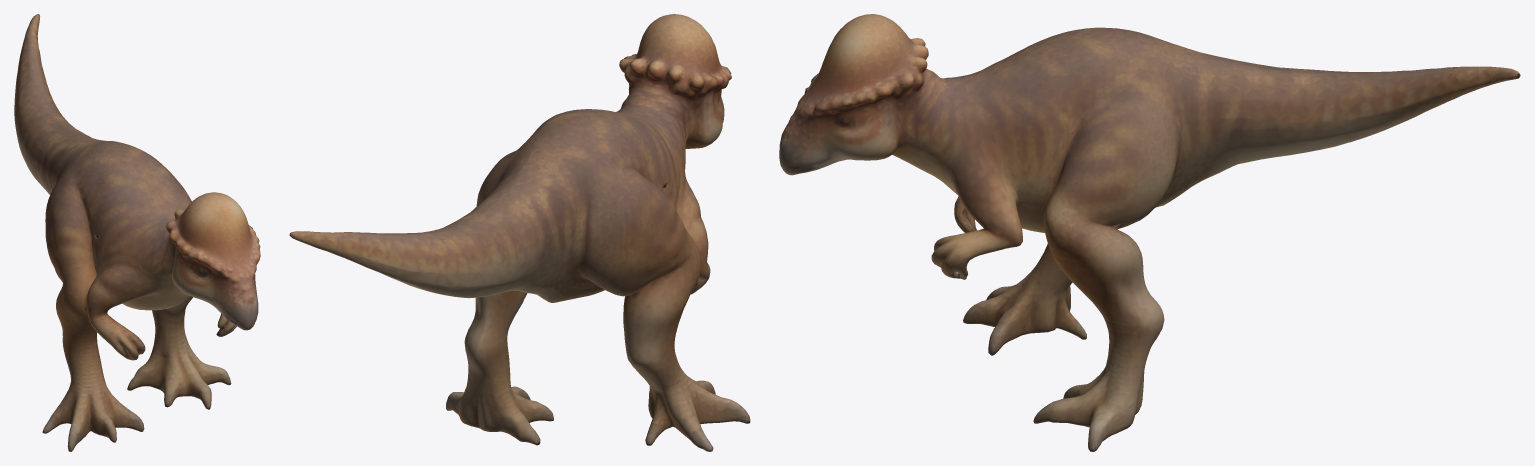
The picture shows the model from 3 angles, left to right: view 1: azimuth 30°, elevation 25°; view 2: azimuth 150°, elevation 25°; view 3: azimuth 270°, elevation 25°; orthographic projection. The views are drawn at different scales.
Parts seen in each view (by area): view 1: world; view 2: world; view 3: world.
Boxes of the visible parts, x1,y1,x2,y2 form: world: (14,14,260,451); world: (289,14,750,451); world: (779,14,1520,451).
Size of the model in its own units: 0.9319 by 1.21 by 2.2.
1 material, 1 textured.
